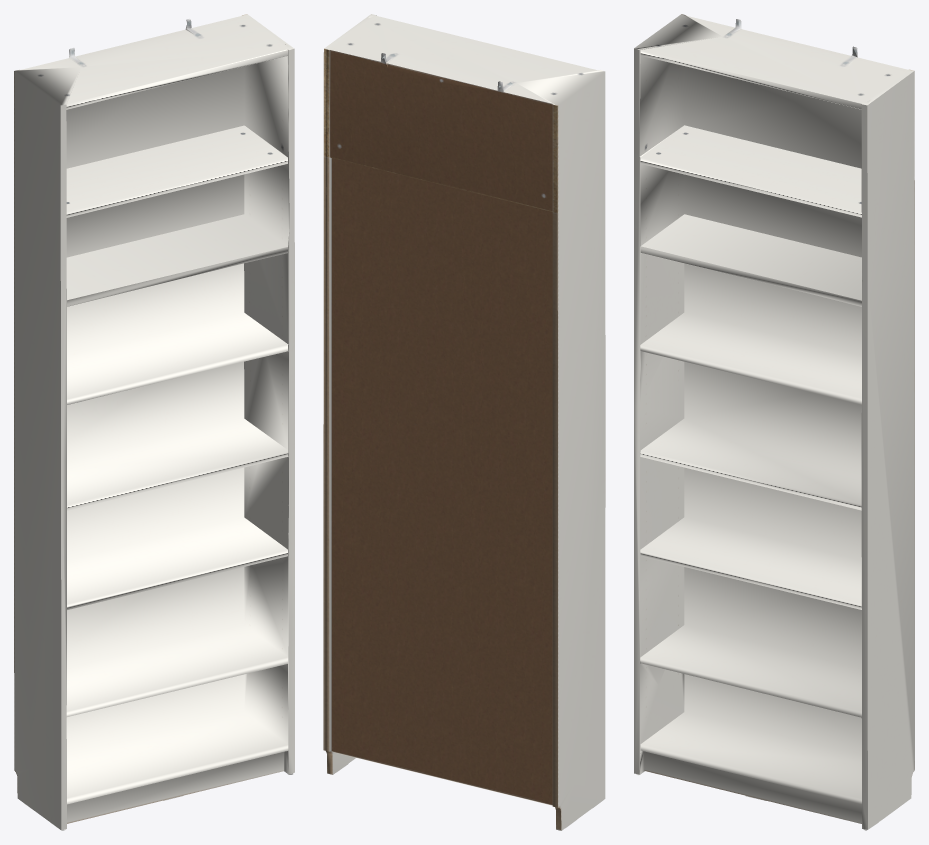
File: billy_rega_59182201.glb
3 renders of one model, left to right at view 1: azimuth 30°, elevation 25°; view 2: azimuth 150°, elevation 25°; view 3: azimuth 330°, elevation 25°, orthographic.
Visible parts, largest first — view 1: billy_rega_59182201; view 2: billy_rega_59182201; view 3: billy_rega_59182201.
Part boxes in pixels (bbox=[...]): billy_rega_59182201: bbox=[14, 14, 294, 830]; billy_rega_59182201: bbox=[323, 14, 605, 830]; billy_rega_59182201: bbox=[634, 14, 914, 830].
Size of the model in its own units: 0.8018 by 2.41 by 0.2909.
2 materials, 2 textured.
